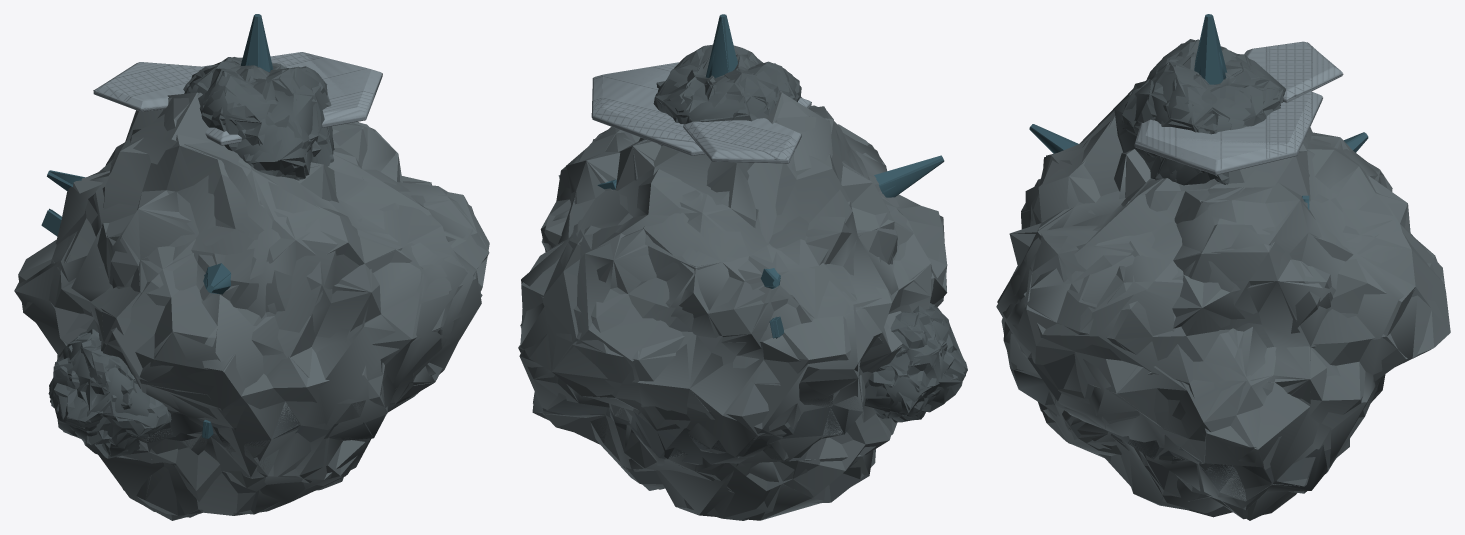
File: place_rock_ice_boulder.glb
3 views of the same model, side by side, from view 1: azimuth 30°, elevation 25°; view 2: azimuth 150°, elevation 25°; view 3: azimuth 270°, elevation 25° (orthographic). The views are drawn at different scales.
Visible parts, largest first — view 1: LOD2_Stone, LOD0_Stone, LOD1_Stone, LOD0_Stone_deep, LOD2_Stone_deep, LOD1_Stone_deep, LOD0_Ceramic_ice, LOD0_CANOPY, LOD1_Ceramic_ice, LOD1_Stone_strata, LOD0_Stone_strata, LOD2_Stone_strata (+1 smaller); view 2: LOD2_Stone, LOD0_Stone, LOD1_Stone, LOD0_Ceramic_ice, LOD0_Stone_deep, LOD1_Stone_deep, LOD2_Stone_deep, LOD2_Stone_strata, LOD0_CANOPY, LOD1_Ceramic_ice, LOD1_CANOPY, LOD1_Stone_strata (+1 smaller); view 3: LOD2_Stone, LOD0_Stone, LOD1_Stone, LOD0_Ceramic_ice, LOD0_Stone_deep, LOD2_Stone_deep, LOD1_Stone_deep, LOD0_CANOPY, LOD1_Ceramic_ice, LOD1_Stone_strata, LOD0_Stone_strata, LOD2_Stone_strata (+1 smaller).
Boxes of the visible parts, box(x1,y1,x2,y2) form: LOD2_Stone: box(14, 92, 489, 520); LOD0_Stone: box(18, 92, 489, 517); LOD1_Stone: box(18, 92, 488, 516); LOD0_Stone_deep: box(49, 57, 333, 456); LOD2_Stone_deep: box(48, 57, 333, 458); LOD1_Stone_deep: box(49, 57, 334, 458); LOD0_Ceramic_ice: box(93, 52, 382, 145); LOD0_CANOPY: box(41, 14, 272, 438); LOD1_Ceramic_ice: box(119, 52, 371, 141); LOD1_Stone_strata: box(144, 402, 394, 447); LOD0_Stone_strata: box(163, 396, 411, 446); LOD2_Stone_strata: box(58, 356, 385, 440); LOD2_Stone: box(519, 92, 947, 520); LOD0_Stone: box(518, 91, 947, 520); LOD1_Stone: box(521, 105, 930, 518); LOD0_Ceramic_ice: box(592, 68, 811, 163); LOD0_Stone_deep: box(643, 45, 967, 422); LOD1_Stone_deep: box(653, 44, 967, 422); LOD2_Stone_deep: box(657, 45, 965, 419); LOD2_Stone_strata: box(532, 392, 857, 464); LOD0_CANOPY: box(597, 14, 944, 338); LOD1_Ceramic_ice: box(602, 62, 801, 161); LOD1_CANOPY: box(706, 14, 944, 288); LOD1_Stone_strata: box(590, 408, 862, 458); LOD2_Stone: box(996, 89, 1449, 520); LOD0_Stone: box(997, 111, 1450, 518); LOD1_Stone: box(997, 110, 1450, 518); LOD0_Ceramic_ice: box(1134, 41, 1342, 174); LOD0_Stone_deep: box(1115, 41, 1285, 184); LOD2_Stone_deep: box(1114, 39, 1285, 185); LOD1_Stone_deep: box(1114, 39, 1283, 184); LOD0_CANOPY: box(1029, 14, 1368, 209); LOD1_Ceramic_ice: box(1146, 46, 1342, 170); LOD1_Stone_strata: box(1013, 370, 1378, 491); LOD0_Stone_strata: box(1054, 388, 1377, 483); LOD2_Stone_strata: box(1010, 368, 1385, 490).
Size of what is drawn, in the model's own units: 10.4 by 11.84 by 10.01.
Materials: 5 (1 with a texture image).
